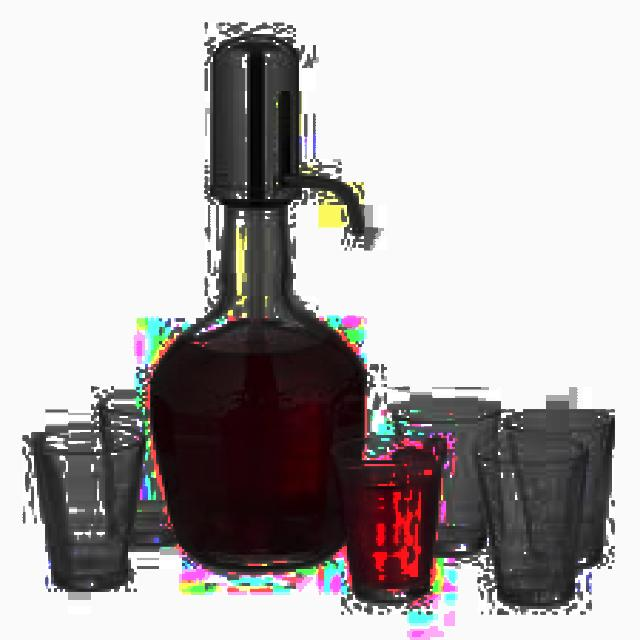drink: (327, 435, 450, 606)
